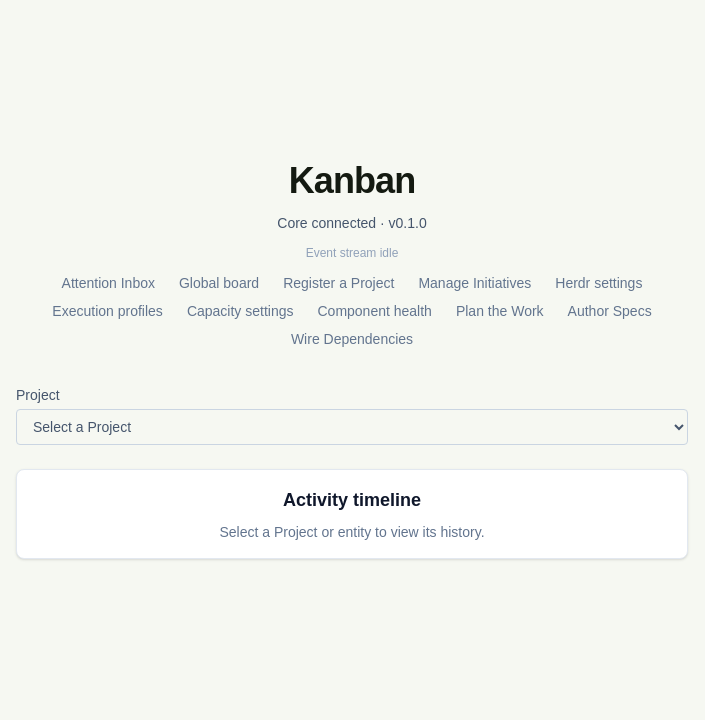
Test: HomeView timeline routing › mounts the timeline for the selected Project numeric identity
Select "OPS — Operations" in the dropdown with test id "home-project-select" at (352, 427), box [16,409,688,445]
(page scrolled)
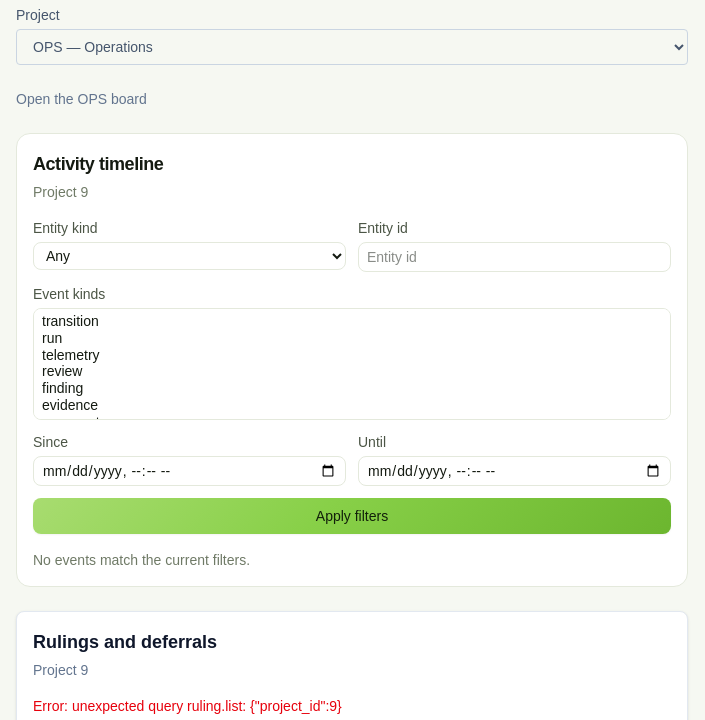
Expected: the element with test id "timeline-surface" is shown
Expected: the element with test id "timeline-surface" shows "Project 9", [33,184,88,200]
